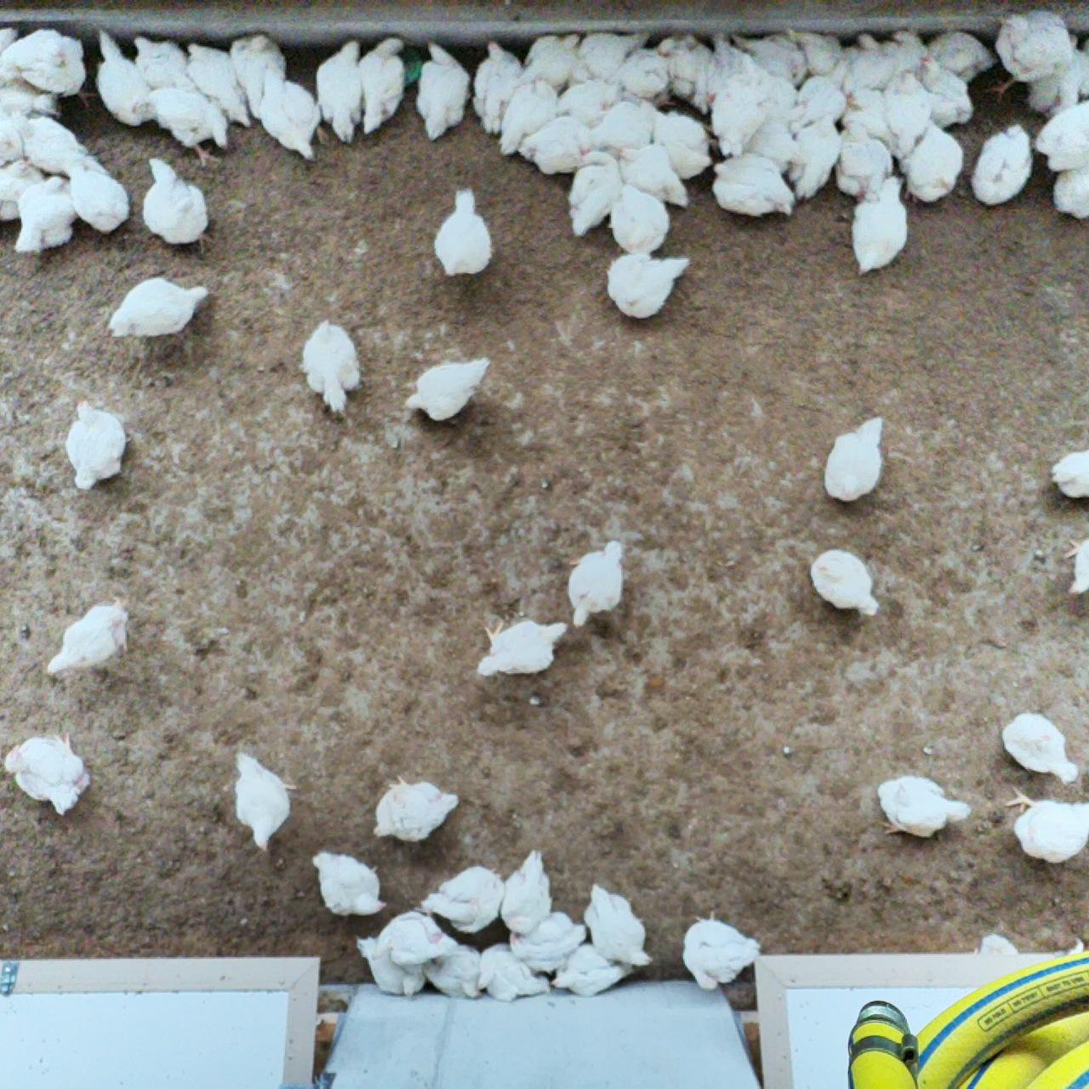chicken: (2, 730, 93, 819), (226, 745, 300, 853), (138, 154, 216, 256), (993, 7, 1075, 98), (1000, 784, 1089, 867), (140, 83, 233, 162), (104, 275, 210, 342), (45, 600, 133, 679), (369, 772, 462, 846), (255, 64, 324, 163), (401, 352, 493, 426), (817, 417, 894, 505), (678, 908, 760, 990), (475, 614, 573, 682), (877, 773, 975, 841), (706, 149, 795, 223), (581, 881, 655, 970), (299, 318, 364, 418), (185, 39, 257, 129), (415, 35, 475, 143), (5, 101, 87, 180), (93, 26, 157, 127), (704, 67, 775, 158), (1, 25, 86, 101), (64, 397, 131, 492), (419, 862, 506, 935), (1001, 708, 1080, 787), (563, 538, 633, 627), (604, 248, 689, 321), (468, 37, 530, 137), (850, 175, 912, 275), (781, 109, 844, 203), (1022, 32, 1089, 120), (735, 77, 801, 165), (432, 184, 493, 279), (498, 75, 562, 164), (357, 30, 410, 137), (640, 107, 713, 184), (547, 936, 636, 999), (59, 157, 131, 234), (899, 120, 965, 204), (971, 121, 1037, 205), (307, 844, 386, 914), (506, 906, 589, 972), (314, 37, 367, 140), (352, 927, 429, 997), (567, 145, 625, 237), (12, 175, 78, 255), (615, 140, 689, 211), (805, 547, 881, 616), (829, 120, 895, 199), (699, 27, 761, 111), (232, 29, 291, 116), (495, 847, 554, 934), (789, 58, 850, 141), (474, 936, 551, 1001), (918, 27, 996, 90), (608, 175, 670, 254), (838, 31, 903, 105), (520, 113, 597, 175), (128, 32, 201, 96), (1031, 97, 1089, 176), (911, 51, 971, 126), (519, 29, 584, 98), (880, 68, 932, 154), (613, 34, 677, 102), (573, 28, 645, 88), (732, 32, 810, 87), (877, 29, 934, 104), (834, 83, 899, 148), (590, 96, 659, 155), (416, 942, 487, 998), (382, 908, 458, 960), (553, 76, 624, 130), (667, 32, 715, 108), (0, 155, 48, 230), (780, 29, 848, 80), (1046, 162, 1089, 226), (0, 78, 60, 122), (1053, 530, 1089, 599), (1051, 444, 1089, 503), (0, 104, 28, 172), (0, 21, 23, 94), (1066, 41, 1089, 100)
